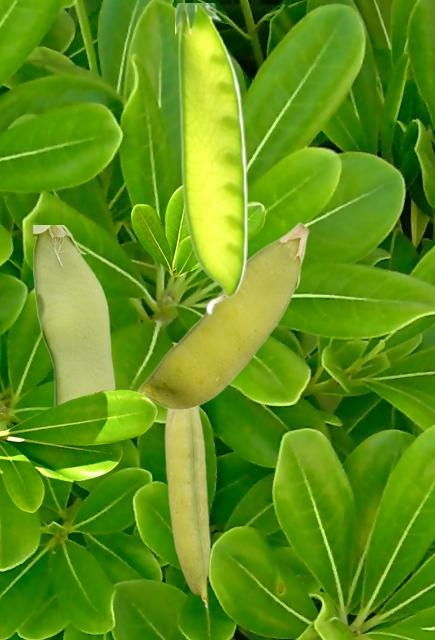pea: (136, 222, 308, 409), (175, 3, 246, 314), (33, 225, 114, 404), (165, 408, 210, 607)
